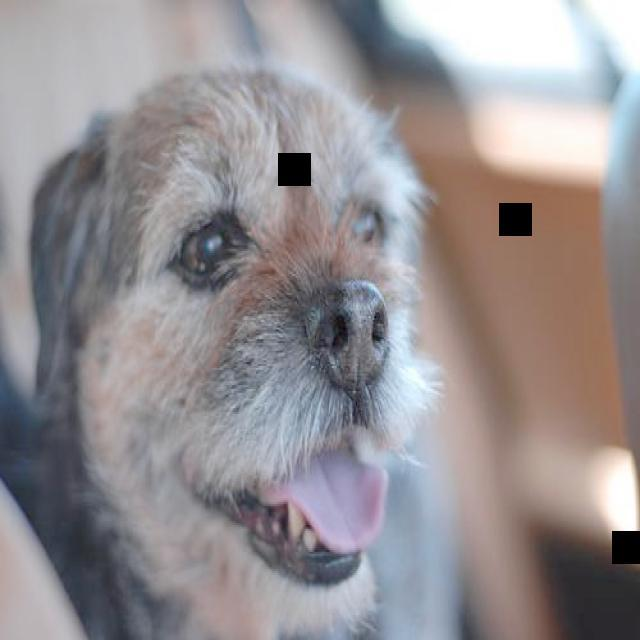adult_dog: (0, 43, 446, 640)
